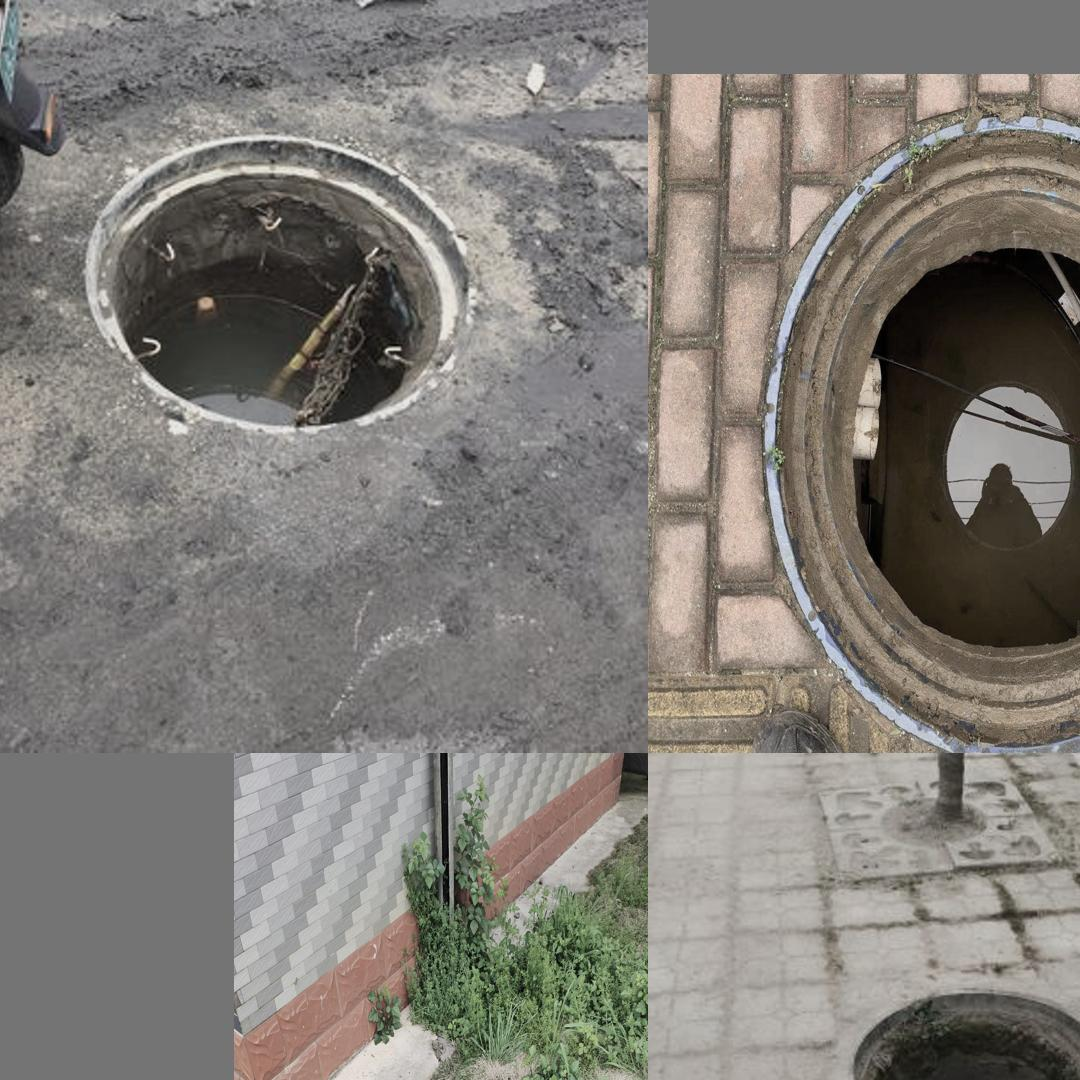lose: (761, 114, 1080, 753), (78, 123, 503, 436), (838, 984, 1080, 1080)
